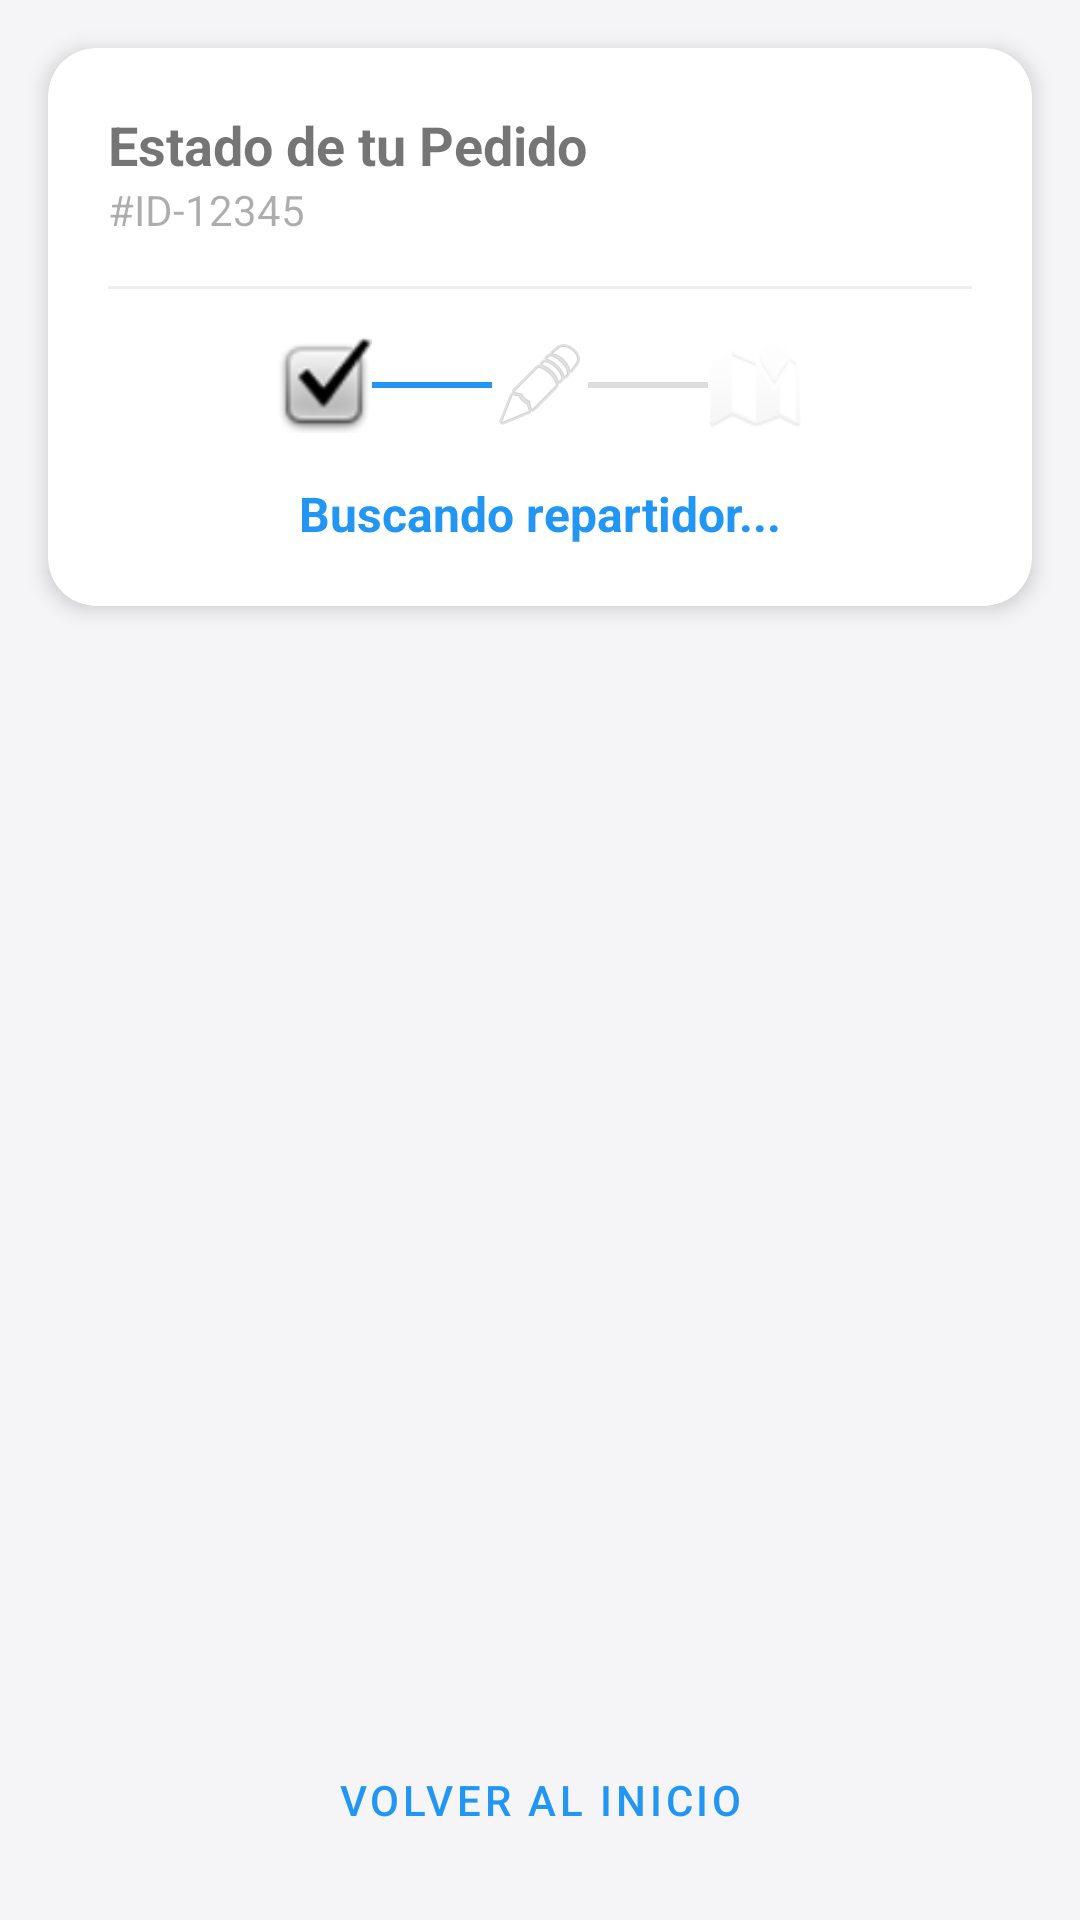

Icon bounding boxes for this 1080px×1920px phone screenshot, format (x1, y1, x2, y2):
edit: (500, 344, 580, 424)
